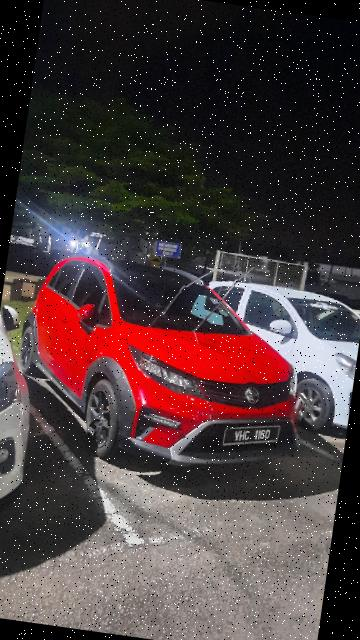License_Plate: (222, 415, 284, 454)
car: (8, 249, 324, 489), (178, 274, 360, 438), (1, 293, 52, 523)
